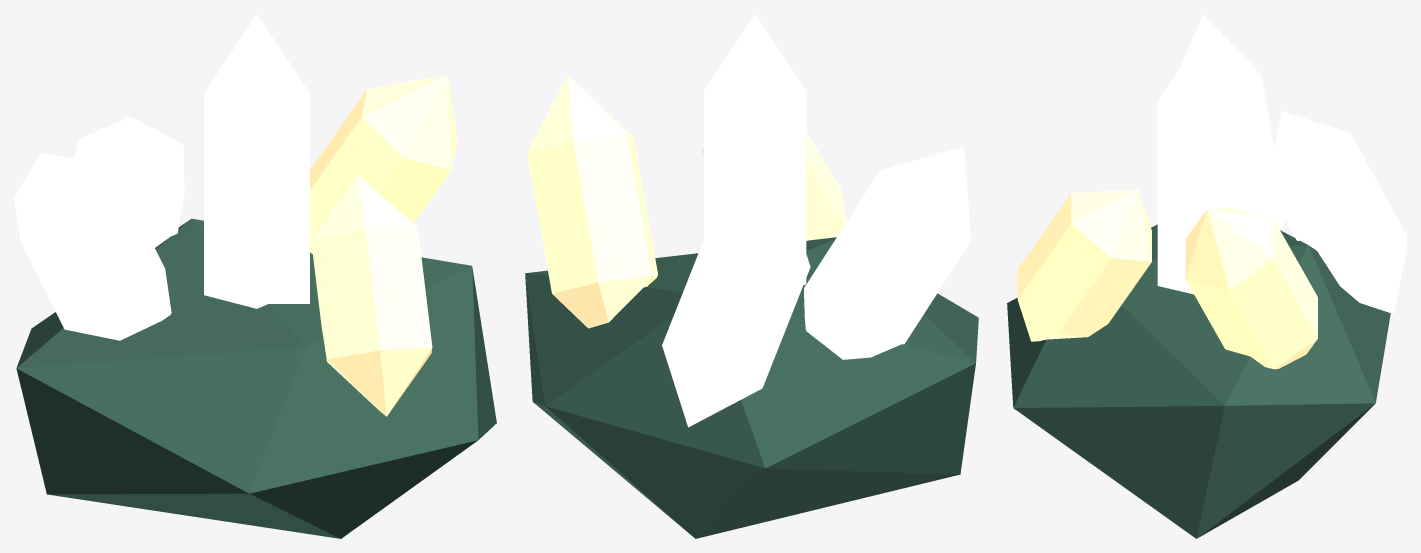
Rendered from crystals.glb.
3 renders of one model, left to right at view 1: azimuth 30°, elevation 25°; view 2: azimuth 150°, elevation 25°; view 3: azimuth 270°, elevation 25°, orthographic. The views are drawn at different scales.
Parts seen in each view (by area): view 1: Base, Crystals, CrystalsTan; view 2: Base, Crystals, CrystalsTan; view 3: Base, Crystals, CrystalsTan.
Boxes of the visible parts, x1,y1,x2,y2 form: Base: (16, 218, 496, 538); Crystals: (14, 14, 309, 340); CrystalsTan: (310, 74, 457, 416); Base: (525, 237, 978, 538); Crystals: (662, 14, 970, 427); CrystalsTan: (527, 75, 846, 328); Base: (1007, 224, 1390, 538); Crystals: (1157, 14, 1406, 313); CrystalsTan: (1017, 189, 1317, 369).
Size of the model in its own units: 0.9996 by 1.03 by 0.8377.
